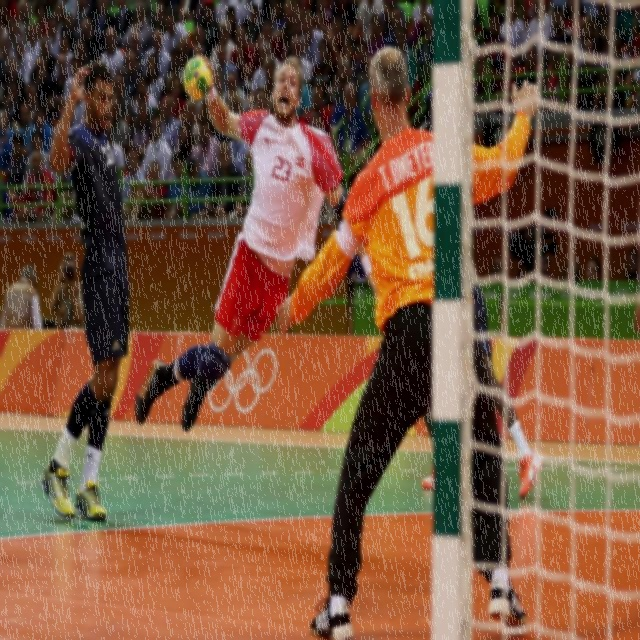pessoa: (274, 41, 545, 640), (132, 49, 388, 436), (420, 86, 546, 502), (38, 56, 132, 524), (86, 1, 241, 28), (330, 82, 373, 173), (600, 46, 632, 152), (0, 1, 86, 36), (0, 262, 44, 330), (18, 149, 58, 223), (48, 252, 85, 331), (578, 1, 640, 46), (209, 140, 244, 218), (282, 55, 314, 137), (138, 116, 176, 182), (22, 128, 58, 194), (247, 40, 280, 106), (164, 152, 194, 220), (136, 159, 168, 221), (59, 55, 86, 128), (310, 38, 338, 106), (576, 38, 602, 110), (394, 25, 418, 101), (190, 120, 220, 179), (160, 46, 190, 104), (474, 0, 496, 79), (130, 74, 158, 136), (184, 158, 212, 219), (120, 146, 148, 204), (230, 26, 256, 88), (121, 1, 153, 50), (142, 28, 172, 80), (99, 26, 125, 85), (304, 84, 332, 138), (210, 18, 237, 74), (350, 0, 385, 43), (49, 36, 76, 91), (524, 0, 554, 48), (234, 148, 254, 219), (261, 0, 299, 36), (317, 1, 350, 42), (300, 12, 324, 68), (493, 258, 551, 281), (160, 74, 186, 125), (624, 247, 639, 334), (30, 56, 56, 106), (2, 54, 28, 104), (92, 0, 116, 54), (160, 95, 182, 153), (29, 38, 58, 82), (334, 57, 360, 106), (51, 53, 70, 119), (29, 104, 53, 156), (222, 71, 248, 117), (128, 96, 154, 142), (213, 44, 239, 90), (161, 10, 188, 54), (110, 96, 131, 152), (172, 121, 198, 165), (15, 104, 37, 156), (384, 8, 412, 48), (290, 36, 312, 86), (251, 54, 276, 98), (143, 53, 165, 103), (13, 39, 36, 86), (378, 0, 408, 36), (358, 55, 375, 115), (517, 43, 539, 89), (0, 108, 16, 170), (547, 6, 573, 44), (113, 71, 133, 120), (123, 30, 144, 76), (365, 12, 385, 58), (410, 0, 432, 41), (187, 24, 210, 62), (24, 81, 41, 128), (0, 188, 21, 225), (0, 36, 12, 97), (187, 94, 210, 122), (246, 4, 260, 44), (586, 256, 604, 280), (562, 260, 580, 284), (116, 0, 131, 27), (0, 85, 18, 106), (256, 87, 269, 113), (228, 93, 242, 116), (212, 68, 222, 92), (310, 114, 323, 129)
